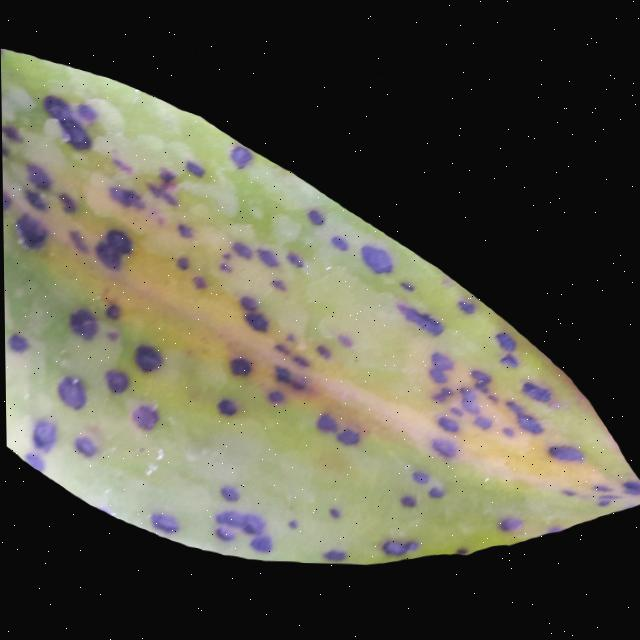mite: (39, 91, 94, 151), (92, 225, 133, 269), (234, 290, 271, 332), (12, 210, 48, 250), (53, 373, 86, 409), (357, 239, 393, 272), (65, 305, 98, 340), (130, 341, 162, 372), (208, 390, 242, 419), (128, 400, 160, 430), (517, 374, 553, 400), (101, 366, 129, 393), (226, 352, 252, 376), (213, 394, 237, 415)
spots: (0, 43, 640, 573)
